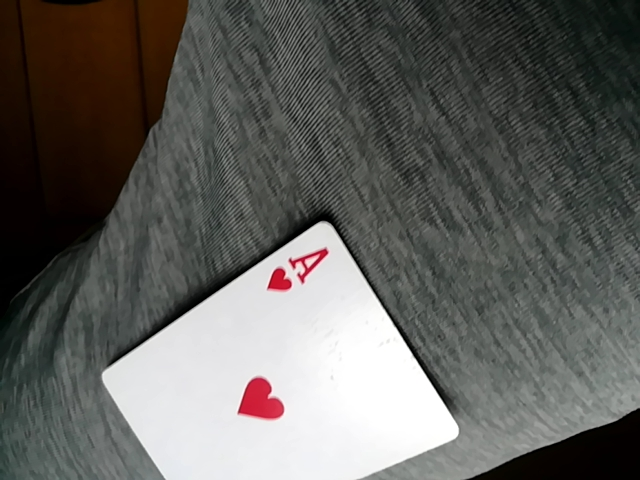hx a: (104, 217, 469, 476)
